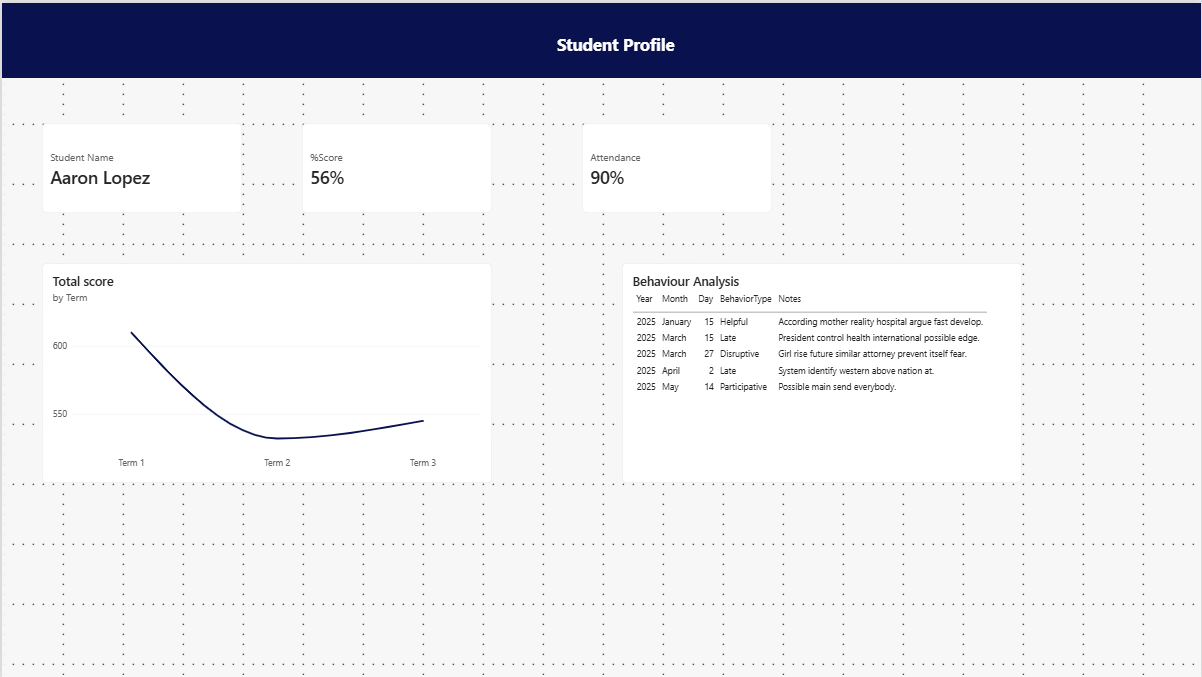

What the dashboard file says about the page in this screenshot:
{"tool":"powerbi","page":{"name":"Student Profile","canvas":[1920,1080],"ordinal":1},"visuals":[{"type":"shape","box":[0,0,1920,120],"z":0,"group":"g1"},{"type":"actionButton","box":[0,0,100,40],"z":0},{"type":"cardVisual","title":"Name","fields":{"Data":["Min(Students - Students csv.Name)"]},"box":[64,192,320,144],"z":0,"group":"g2"},{"type":"lineChart","fields":{"Category":["Scores - Scores csv.Term"],"Y":["Sum(Scores - Scores csv.Score)"]},"box":[64,416,720,352],"z":0,"group":"g3"},{"type":"group","id":"g1","title":"Title Bar","box":[0,0,1920,120],"z":1000},{"type":"textbox","title":"Subtitle","box":[888,48,216,48],"z":1000,"group":"g1"},{"type":"cardVisual","title":"Score","fields":{"Data":["_Measures.%Score"]},"box":[480,192,304,144],"z":1000,"group":"g2"},{"type":"tableEx","title":"Behaviour Analysis","fields":{"Values":["Behavior - Behavior csv.Date.Variation.Date Hierarchy.Year","Behavior - Behavior csv.Date.Variation.Date Hierarchy.Month","Behavior - Behavior csv.Date.Variation.Date Hierarchy.Day","Behavior - Behavior csv.BehaviorType","Behavior - Behavior csv.Notes"]},"box":[992,416,640,352],"z":1000,"group":"g3"},{"type":"group","id":"g2","title":"KPIs","box":[64,192,1168,144],"z":2000},{"type":"cardVisual","title":"Attendance","fields":{"Data":["_Measures.Attendance"]},"box":[928,192,304,144],"z":2000,"group":"g2"},{"type":"group","id":"g3","title":"Visual","box":[64,416,1568,352],"z":3000}]}

Visuals, with their boxes in screenshot pixels (x1, y1, x2, y2), scaled from the page's 1920x1080 canvas onto the 1202x677 screenshot:
shape: [0, 0, 1201, 75]
actionButton: [0, 0, 63, 25]
"Name" cardVisual: [40, 120, 240, 211]
lineChart - Scores - Scores csv.Term x Sum(Scores - Scores csv.Score): [40, 261, 491, 481]
"Title Bar" group: [0, 0, 1201, 75]
"Subtitle" textbox: [556, 30, 691, 60]
"Score" cardVisual: [300, 120, 491, 211]
"Behaviour Analysis" tableEx: [621, 261, 1022, 481]
"KPIs" group: [40, 120, 771, 211]
"Attendance" cardVisual: [581, 120, 771, 211]
"Visual" group: [40, 261, 1022, 481]
